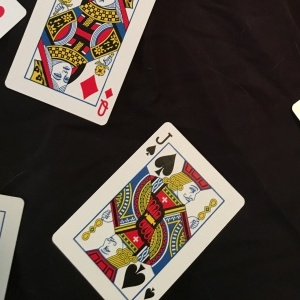card: (50, 120, 249, 299)
